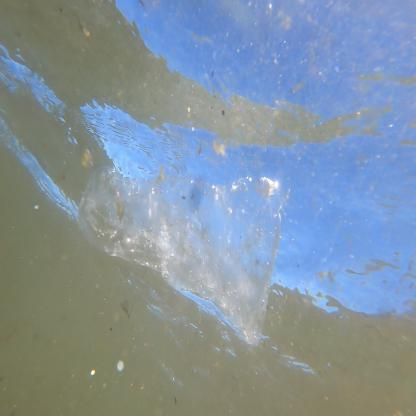Rác: (78, 164, 294, 345)
